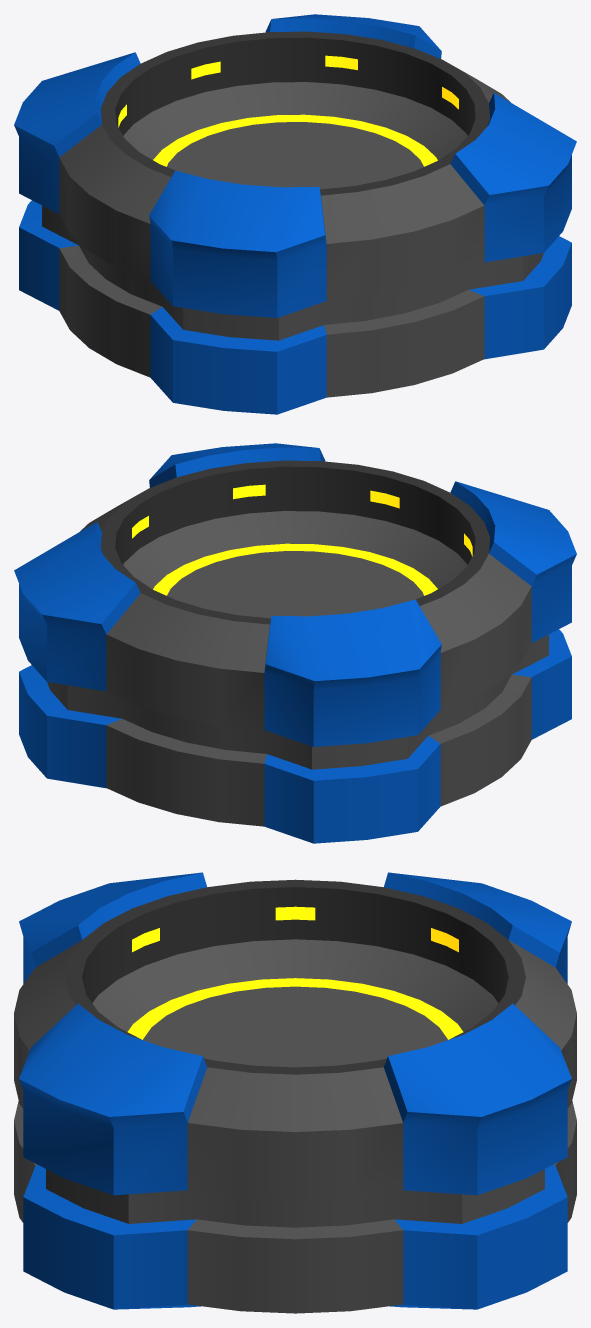
Rendered from 01_yard_light.glb.
3 renders of one model, top to bottom at view 1: azimuth 30°, elevation 25°; view 2: azimuth 150°, elevation 25°; view 3: azimuth 270°, elevation 25°, orthographic. The views are drawn at different scales.
Visible parts, largest first — view 1: 01_yard_light; view 2: 01_yard_light; view 3: 01_yard_light.
Boxes of the visible parts, bbox=[...] form: 01_yard_light: bbox=[14, 14, 576, 414]; 01_yard_light: bbox=[14, 443, 576, 843]; 01_yard_light: bbox=[14, 872, 576, 1313].
Bounding box in the file's own units: 0.9465 × 0.5112 × 0.9465.
